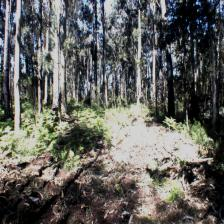trunktrack_idkeyframe: (15, 48, 22, 130), (166, 62, 176, 115), (4, 55, 11, 119)
